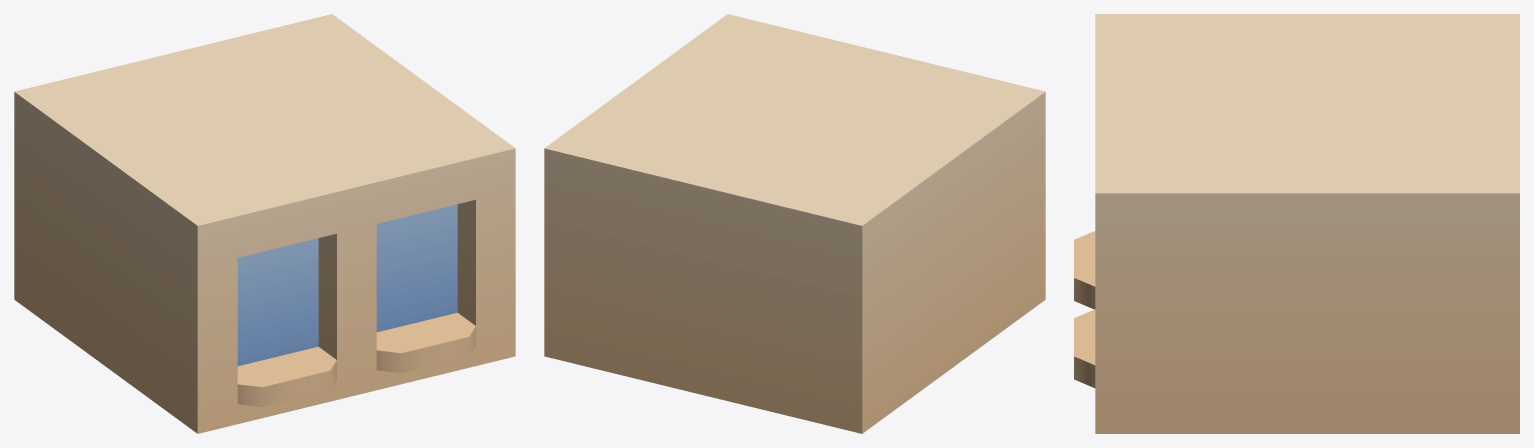
File: kenney-modular-buildings-building-windows-sills.glb
The picture shows the model from 3 angles, left to right: view 1: azimuth 30°, elevation 25°; view 2: azimuth 150°, elevation 25°; view 3: azimuth 270°, elevation 25°; orthographic projection. The views are drawn at different scales.
Visible parts, largest first — view 1: building-windows-sills; view 2: building-windows-sills; view 3: building-windows-sills.
Boxes of the visible parts, box(x1,y1,x2,y2) form: building-windows-sills: box(14, 14, 515, 433); building-windows-sills: box(544, 14, 1045, 433); building-windows-sills: box(1074, 14, 1519, 433).
Size of the model in its own units: 1 by 0.6251 by 1.05.
Materials: 1 (1 with a texture image).
